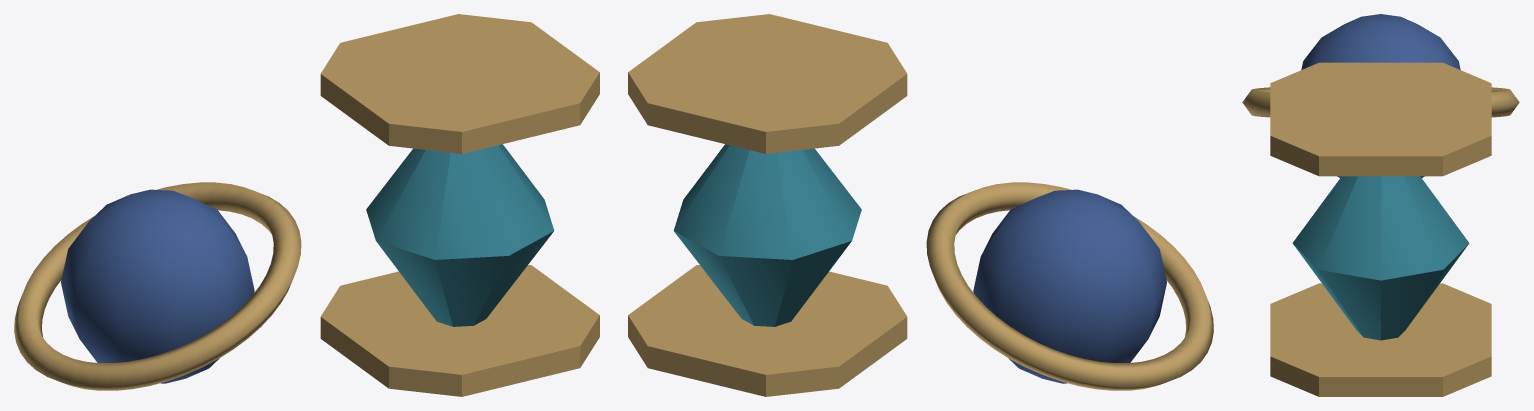
Rendered from decorative-artifacts.glb.
The picture shows the model from 3 angles, left to right: view 1: azimuth 30°, elevation 25°; view 2: azimuth 150°, elevation 25°; view 3: azimuth 270°, elevation 25°; orthographic projection. The views are drawn at different scales.
Visible parts, largest first — view 1: DecorativeArtifacts_gold, DecorativeArtifacts_blue, DecorativeArtifacts_teal; view 2: DecorativeArtifacts_gold, DecorativeArtifacts_blue, DecorativeArtifacts_teal; view 3: DecorativeArtifacts_gold, DecorativeArtifacts_teal, DecorativeArtifacts_blue.
Boxes of the visible parts, <box> form: DecorativeArtifacts_gold: <box>14,14,599,396</box>; DecorativeArtifacts_blue: <box>61,189,254,383</box>; DecorativeArtifacts_teal: <box>366,144,554,326</box>; DecorativeArtifacts_gold: <box>628,14,1213,396</box>; DecorativeArtifacts_blue: <box>973,189,1166,383</box>; DecorativeArtifacts_teal: <box>673,144,861,326</box>; DecorativeArtifacts_gold: <box>1242,62,1519,396</box>; DecorativeArtifacts_teal: <box>1292,176,1469,340</box>; DecorativeArtifacts_blue: <box>1301,14,1460,177</box>.
Size of the model in its own units: 0.7532 by 0.38 by 0.376.
